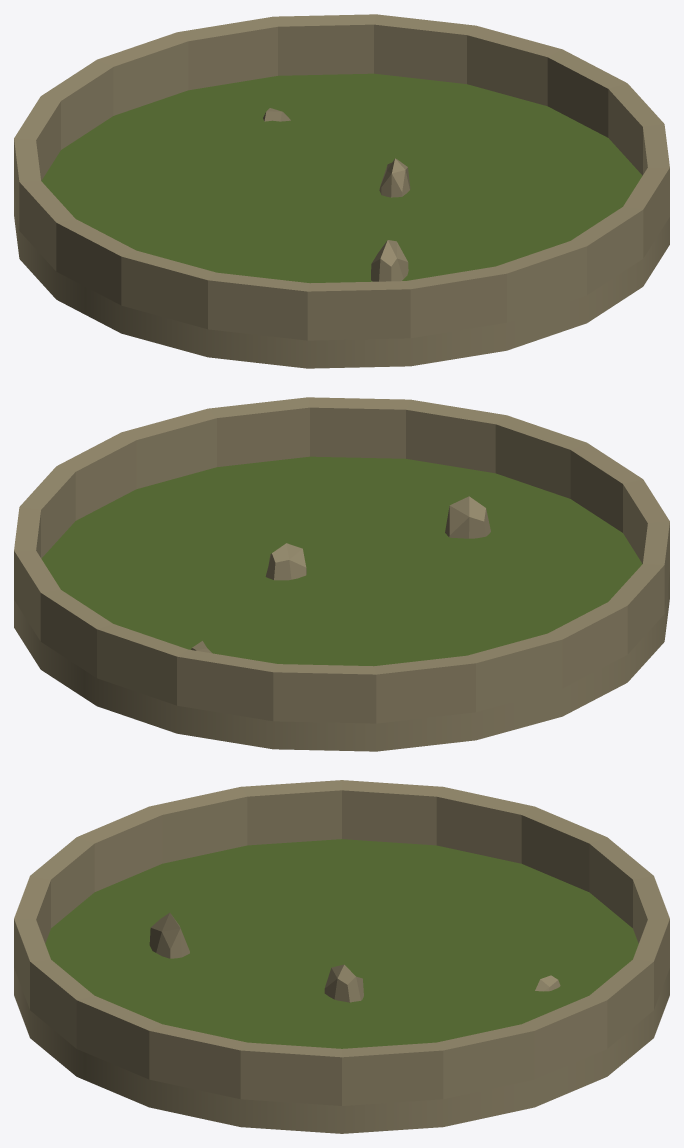
File: escenario3test.fbx
3 renders of one model, top to bottom at view 1: azimuth 30°, elevation 25°; view 2: azimuth 150°, elevation 25°; view 3: azimuth 270°, elevation 25°, orthographic.
Visible parts, largest first — view 1: pCylinder5; view 2: pCylinder5; view 3: pCylinder5.
Part boxes in pixels (box(x1,y1,x2,y2)): pCylinder5: box(14, 14, 669, 368); pCylinder5: box(14, 397, 669, 751); pCylinder5: box(14, 780, 669, 1133).
Bounding box in the file's own units: 1413 × 205 × 1413.
